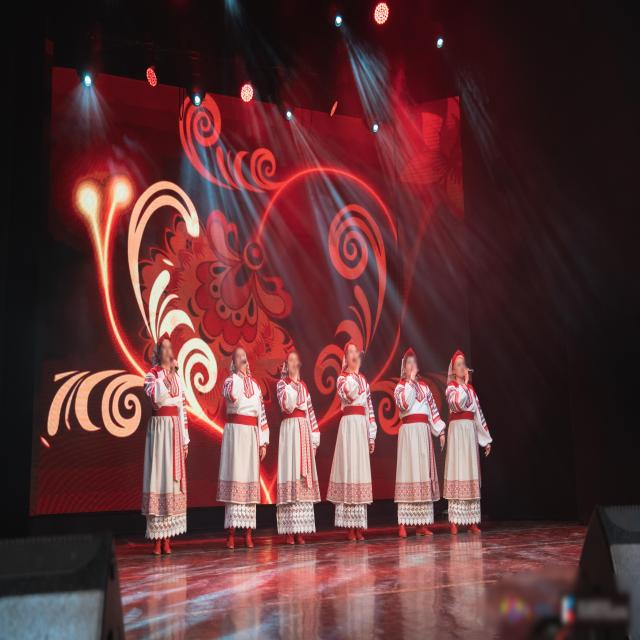Person: (132, 329, 188, 559), (440, 340, 490, 543), (216, 341, 260, 554), (392, 343, 438, 546), (335, 337, 377, 556), (278, 341, 316, 552)
